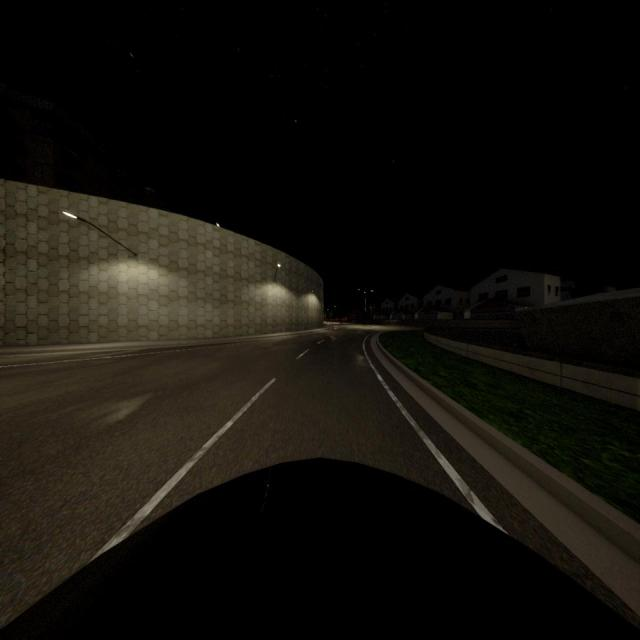Vehicle: (2, 460, 640, 640)
